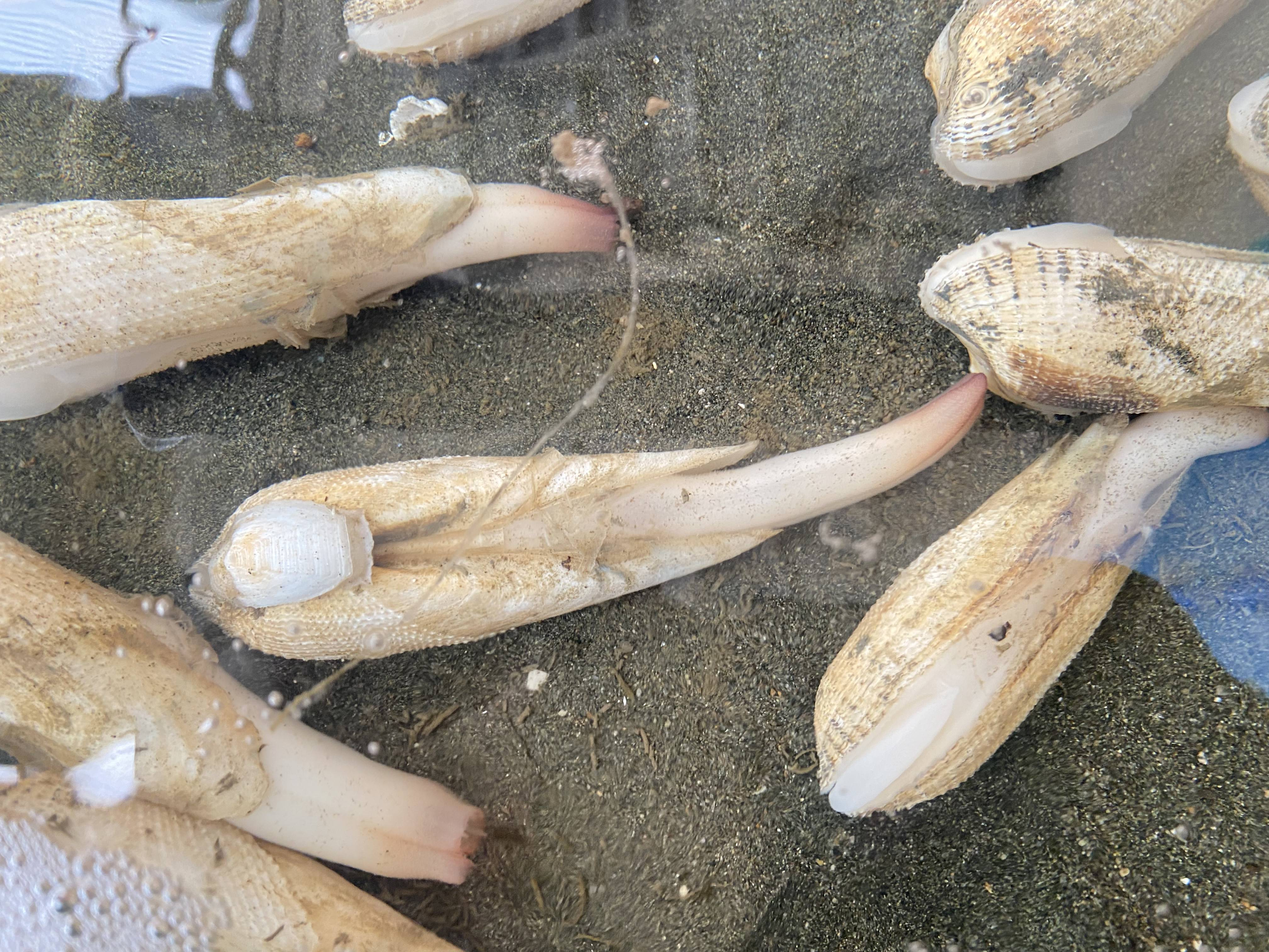Healthy: (814, 407, 1269, 815), (608, 375, 985, 541), (230, 715, 483, 883), (369, 184, 617, 292)
